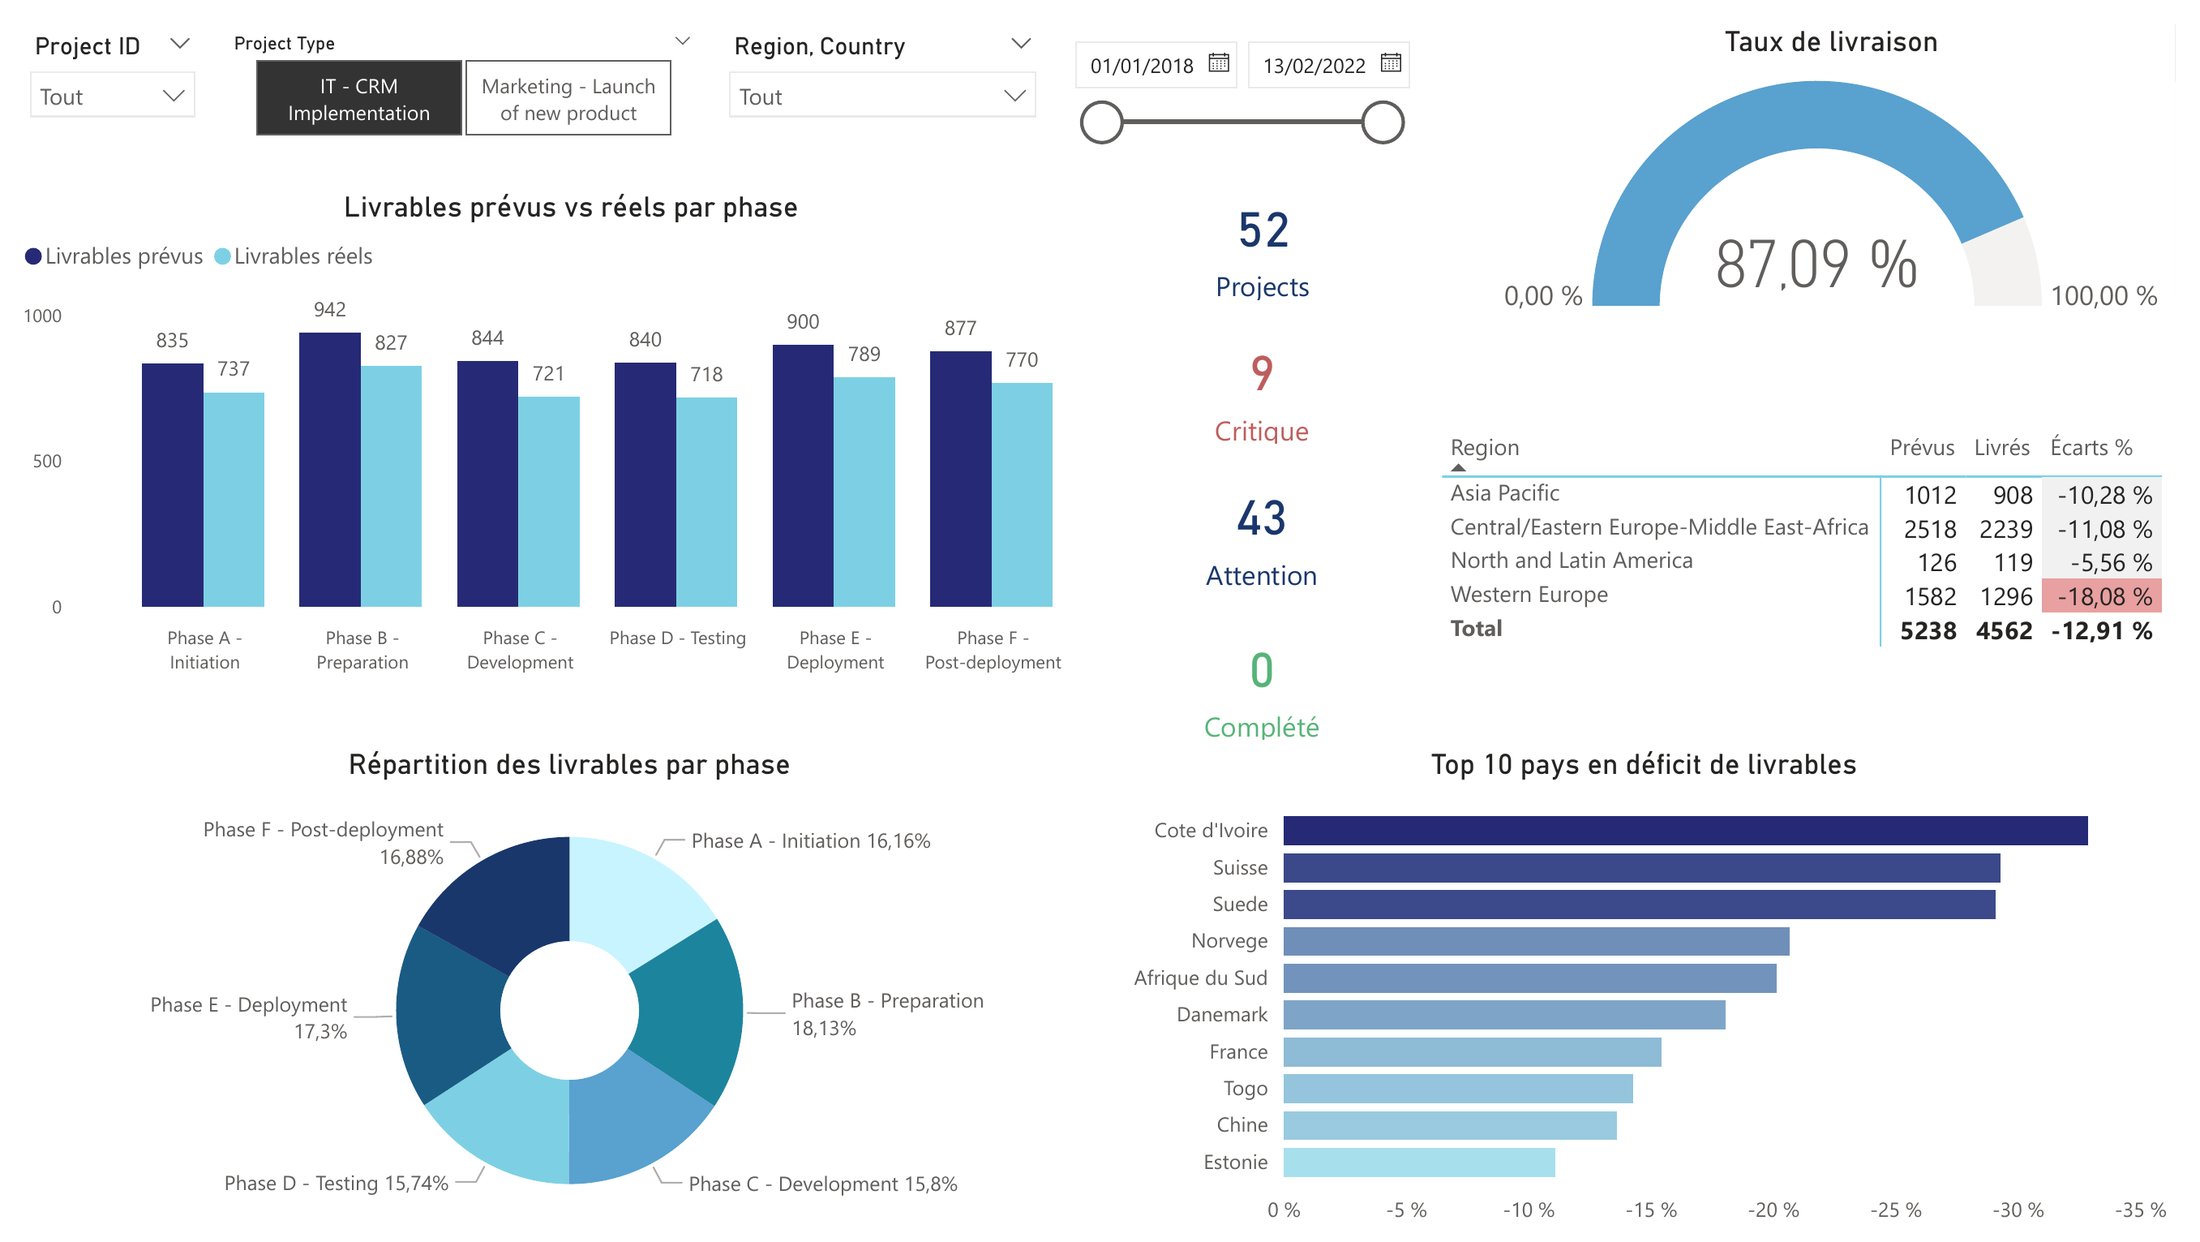

Layout of this report page (visuals, bound fields, positions):
{"tool":"powerbi","page":{"name":"Livrables","canvas":[1280,720],"ordinal":2},"visuals":[{"type":"slicer","fields":{"Values":["Projects_plans.Project ID"]},"box":[0,0,118.3,73.1],"z":0},{"type":"clusteredColumnChart","title":"Livrables prévus vs réels par phase","fields":{"Category":["Actual_Costs.Phase"],"Y":["Sum(Projects_plans.Planned_Delivrable)","Sum(Actual_Delivrable.Actual_Deliverables)"]},"box":[1.1,97.8,658.9,294.4],"z":1000},{"type":"donutChart","title":"Répartition des livrables par phase","fields":{"Y":["Sum(Actual_Delivrable.Actual_Deliverables)"],"Category":["Actual_Costs.Phase"]},"box":[0,427.8,658.9,292.2],"z":2000},{"type":"slicer","fields":{"Values":["Project type.Project Type"]},"box":[118.3,0,295.3,73.1],"z":3000},{"type":"slicer","fields":{"Values":["Country_Profiles.Region","Country_Profiles.Country"]},"box":[413.6,0,202.7,73.1],"z":4000},{"type":"card","fields":{"Values":["Actual_Costs.nmb_projets"]},"box":[696.6,92.6,86.4,75.1],"z":5000},{"type":"card","fields":{"Values":["Actual_Delivrable.livrables-15%"]},"box":[695.6,178,87.5,75.1],"z":6000},{"type":"card","fields":{"Values":["Actual_Delivrable.livrable+15%"]},"box":[693.8,353.8,91.5,73.8],"z":7000},{"type":"card","fields":{"Values":["Actual_Delivrable.livrable_a_surveiller"]},"box":[693.5,263.4,91.6,75.1],"z":8000},{"type":"pivotTable","fields":{"Rows":["Country_Profiles.Region"],"Values":["Sum(Projects_plans.Planned_Delivrable)","Sum(Actual_Delivrable.Actual_Deliverables)","Actual_Delivrable.ecart_deliverable_%"]},"box":[841.1,235.6,438.9,140],"z":9000},{"type":"clusteredBarChart","title":"Top 10 pays en déficit de livrables","fields":{"Category":["Country_Profiles.Country"],"Y":["Actual_Delivrable.ecart_deliverable_%"]},"box":[651.1,427.8,628.9,292.2],"z":10000},{"type":"gauge","title":"Taux de livraison","fields":{"Y":["Actual_Delivrable.taux_livraison_livrable"]},"box":[873.3,0,406.7,185.6],"z":11000},{"type":"slicer","fields":{"Values":["Projects_plans.Start Date"]},"box":[616.3,0,216.1,73.1],"z":12000}]}

Visuals, with their boxes in screenshot pixels (x1, y1, x2, y2), scaled from the page's 1280x720 canvas onto the 2200x1242 screenshot:
slicer - Projects_plans.Project ID: [x1=0, y1=0, x2=203, y2=126]
"Livrables prévus vs réels par phase" clusteredColumnChart: [x1=2, y1=169, x2=1134, y2=677]
"Répartition des livrables par phase" donutChart: [x1=0, y1=738, x2=1132, y2=1241]
slicer - Project type.Project Type: [x1=203, y1=0, x2=711, y2=126]
slicer - Country_Profiles.Region x Country_Profiles.Country: [x1=711, y1=0, x2=1059, y2=126]
card - Actual_Costs.nmb_projets: [x1=1197, y1=160, x2=1346, y2=289]
card - Actual_Delivrable.livrables-15%: [x1=1196, y1=307, x2=1346, y2=437]
card - Actual_Delivrable.livrable+15%: [x1=1192, y1=610, x2=1350, y2=738]
card - Actual_Delivrable.livrable_a_surveiller: [x1=1192, y1=454, x2=1349, y2=584]
pivotTable - Country_Profiles.Region x Sum(Projects_plans.Planned_Delivrable): [x1=1446, y1=406, x2=2199, y2=648]
"Top 10 pays en déficit de livrables" clusteredBarChart: [x1=1119, y1=738, x2=2199, y2=1241]
"Taux de livraison" gauge: [x1=1501, y1=0, x2=2199, y2=320]
slicer - Projects_plans.Start Date: [x1=1059, y1=0, x2=1431, y2=126]
